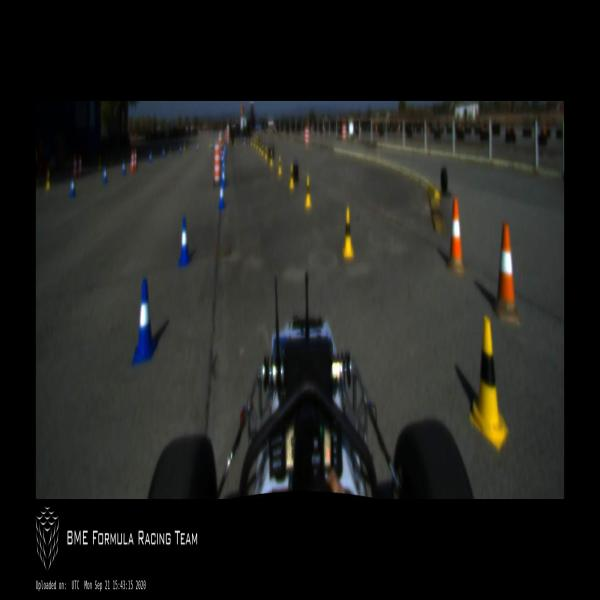blue_cone: (131, 278, 157, 366), (178, 217, 191, 267), (218, 181, 224, 211), (70, 176, 76, 199), (221, 164, 226, 188), (103, 165, 107, 184), (122, 159, 125, 174), (149, 150, 152, 163), (196, 143, 199, 153), (179, 145, 182, 154), (163, 148, 164, 157)
large_orange_cone: (78, 154, 82, 178), (130, 148, 134, 172), (134, 148, 138, 172), (73, 156, 77, 179)
unknown_cone: (492, 223, 520, 326), (448, 197, 466, 275)
yellow_cone: (468, 316, 508, 450), (342, 208, 354, 256), (304, 176, 312, 208), (289, 164, 295, 188), (45, 170, 51, 192), (278, 155, 282, 175), (270, 150, 273, 167), (265, 146, 267, 160), (261, 143, 263, 155), (259, 141, 261, 153), (256, 141, 258, 150)
